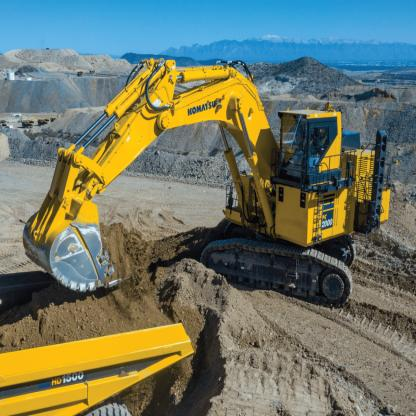excavator: (20, 51, 392, 320)
